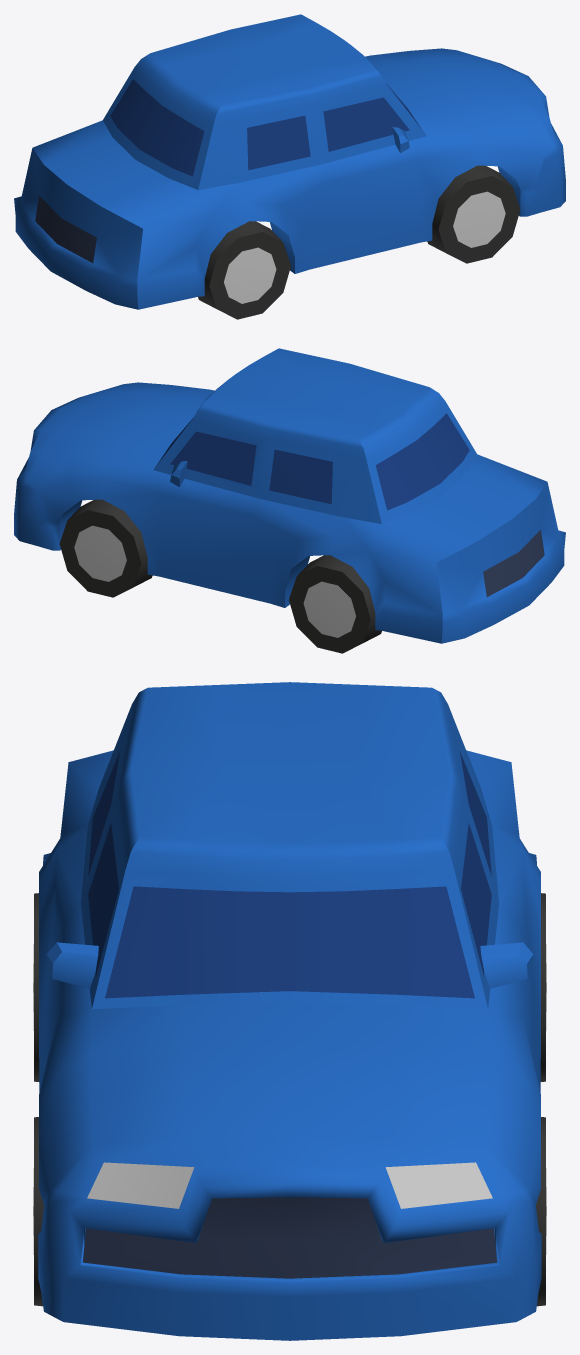
File: car.fbx
3 views of the same model, one above another, from view 1: azimuth 30°, elevation 25°; view 2: azimuth 150°, elevation 25°; view 3: azimuth 270°, elevation 25° (orthographic). The views are drawn at different scales.
Visible parts, largest first — view 1: car_color, car_wheel, car; view 2: car_color, car_wheel, car; view 3: car_color, car, car_wheel.
Part boxes in pixels (x1=…): car_color: x1=14, y1=14, x2=565, y2=309; car_wheel: x1=198, y1=165, x2=520, y2=319; car: x1=35, y1=79, x2=419, y2=263; car_color: x1=14, y1=348, x2=565, y2=643; car_wheel: x1=59, y1=499, x2=381, y2=653; car: x1=160, y1=413, x2=544, y2=597; car_color: x1=38, y1=682, x2=541, y2=1340; car: x1=82, y1=752, x2=497, y2=1278; car_wheel: x1=33, y1=893, x2=546, y2=1306.
Size of the model in its own units: 19.93 by 7.71 by 9.28.
